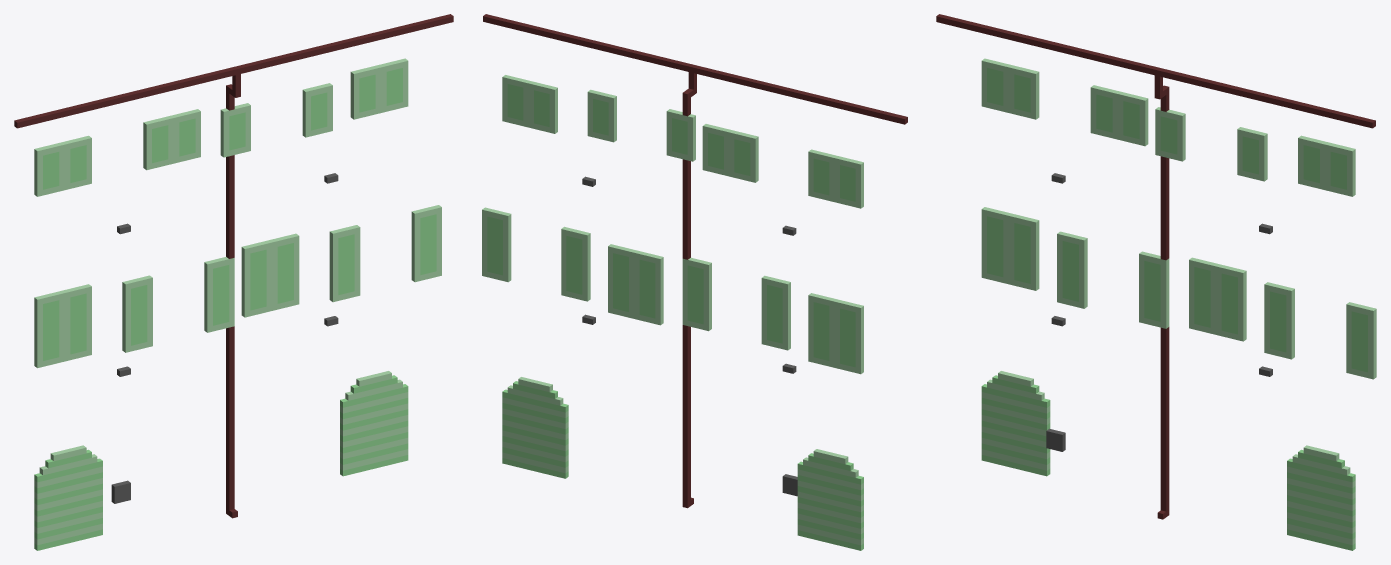
File: Carato metallo.obj
3 views of the same model, side by side, from view 1: azimuth 30°, elevation 25°; view 2: azimuth 150°, elevation 25°; view 3: azimuth 330°, elevation 25° (orthographic). The views are drawn at different scales.
Size of the model in its own units: 16 by 15.8 by 1.
Materials: 1 (1 with a texture image).
